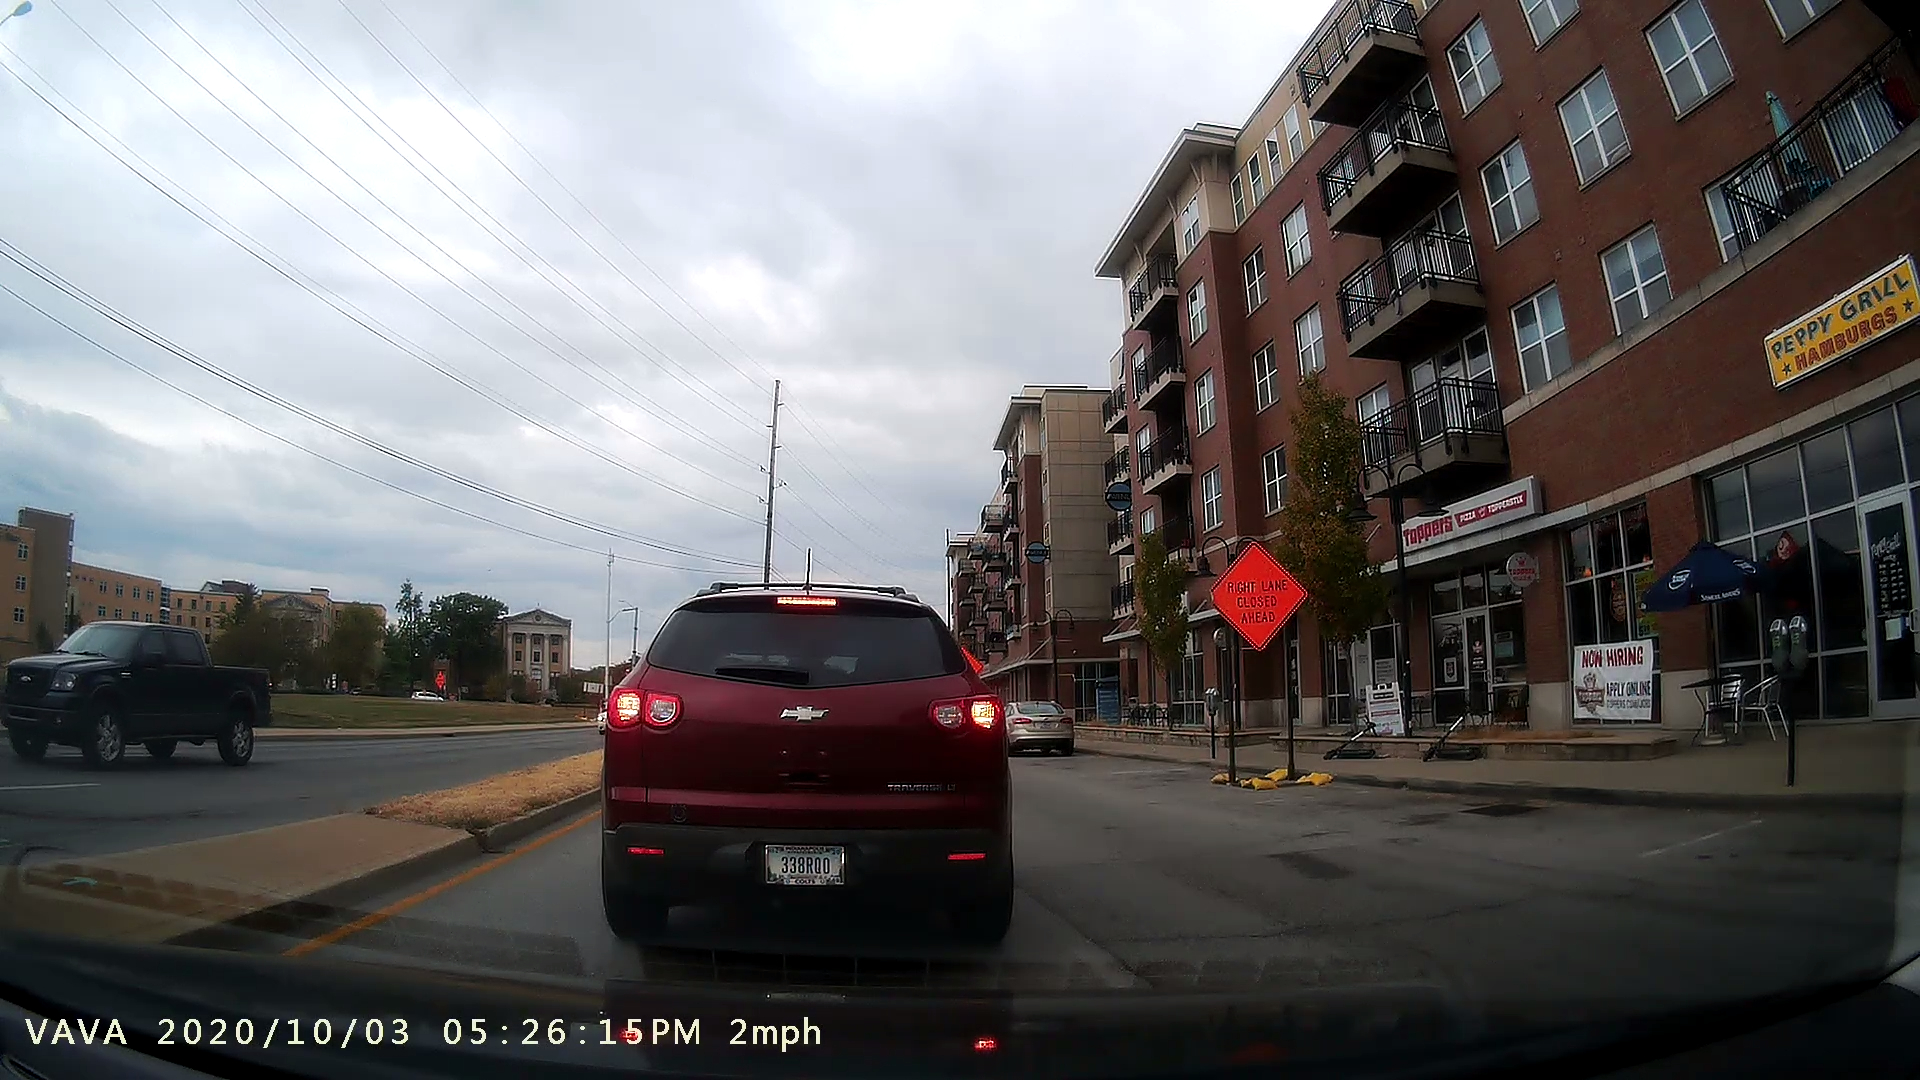ttcs_right_lane_closed_ahead: (1203, 518, 1328, 793)
